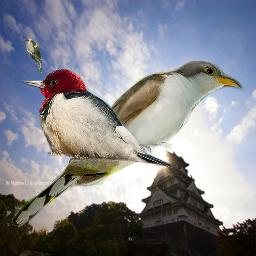Cuckoo: (7, 58, 247, 231), (21, 38, 43, 74)
Woodpecker: (21, 69, 173, 167)
